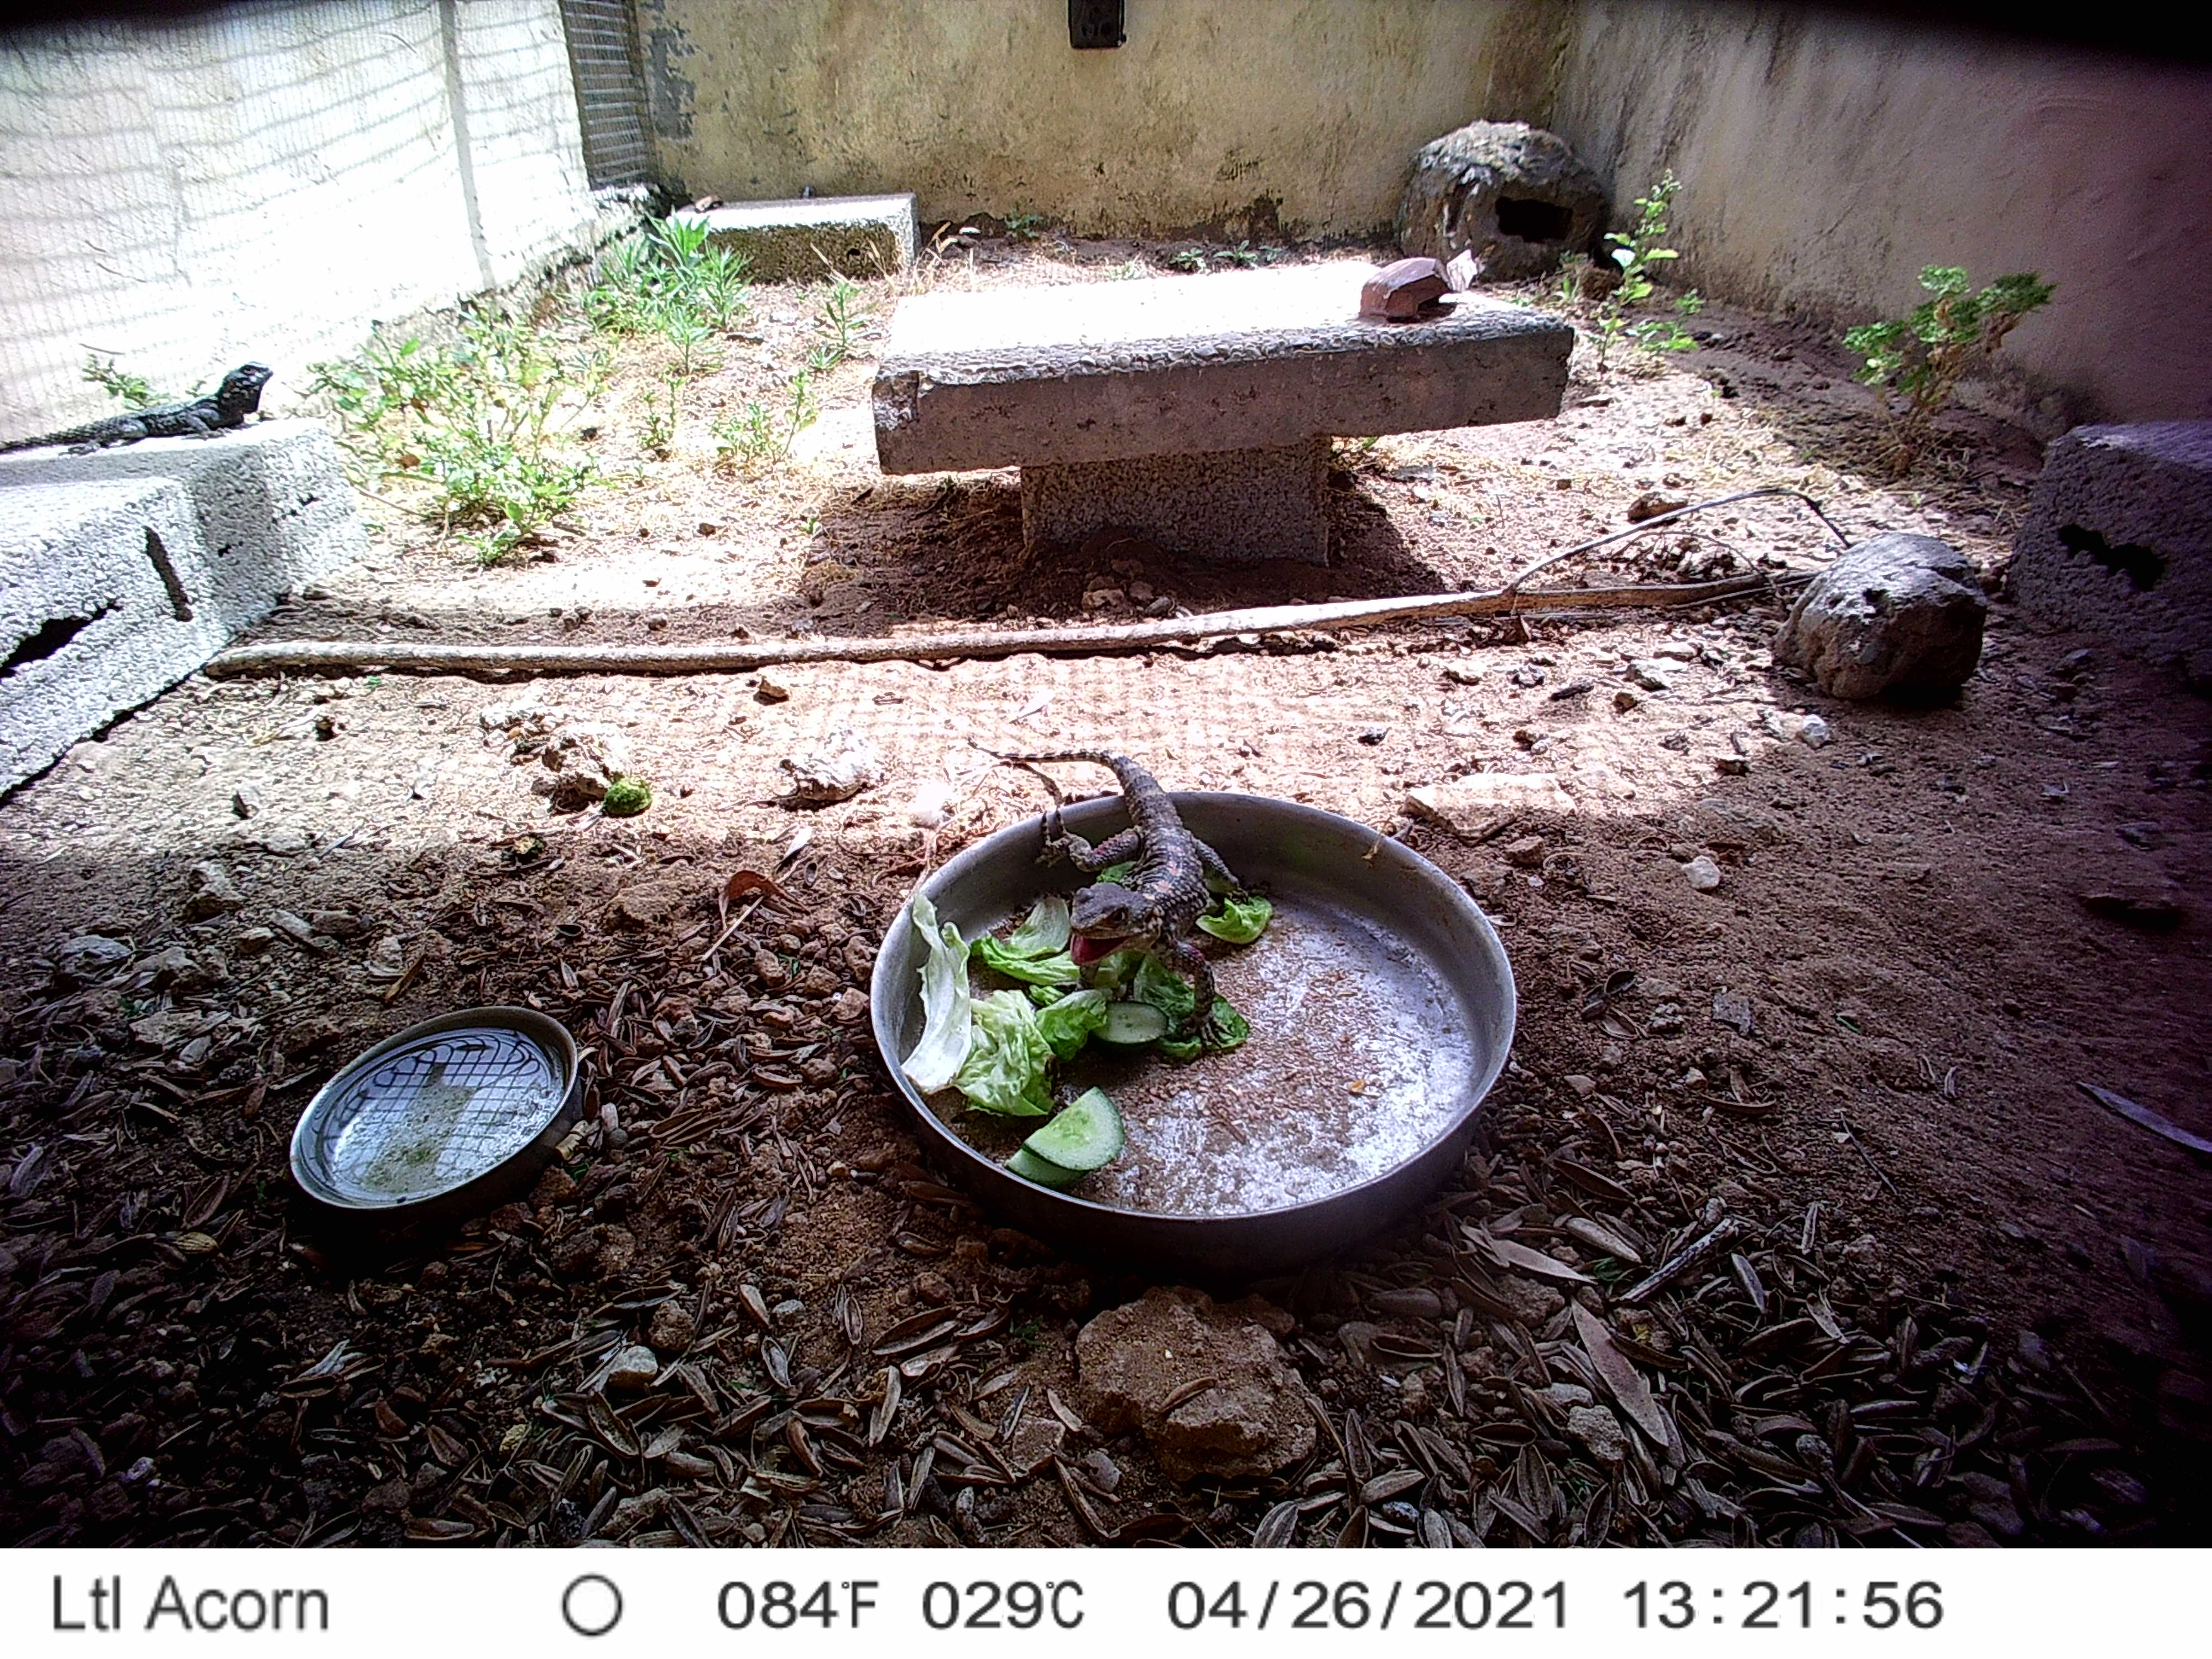lizard: (967, 735, 1252, 1046), (0, 357, 273, 467)
